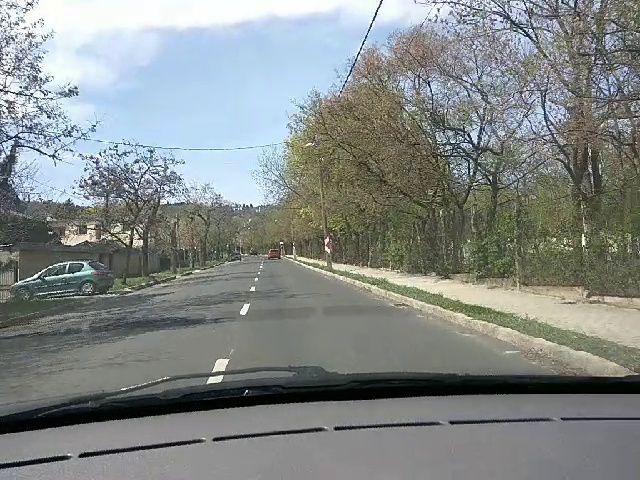car: (8, 262, 116, 301)
